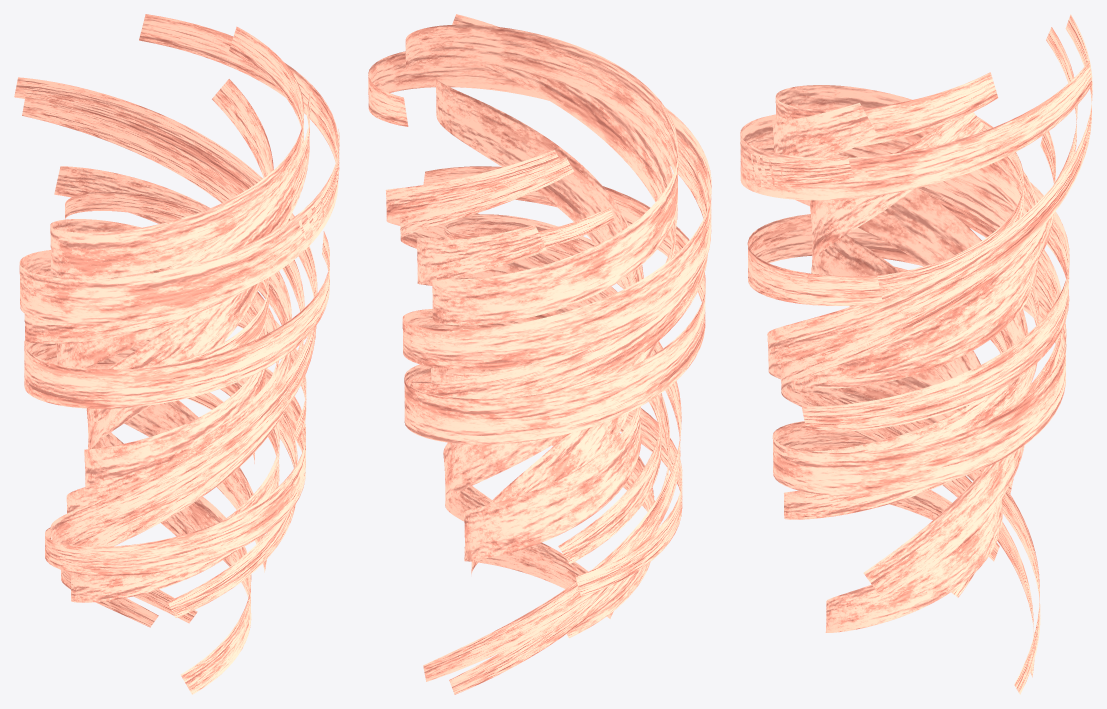
File: clear_devil_wisps_1.glb
3 renders of one model, left to right at view 1: azimuth 30°, elevation 25°; view 2: azimuth 150°, elevation 25°; view 3: azimuth 270°, elevation 25°, orthographic. The views are drawn at different scales.
Parts seen in each view (by area): view 1: devil_wisps_1; view 2: devil_wisps_1; view 3: devil_wisps_1.
Boxes of the visible parts, box(x1,y1,x2,y2) form: devil_wisps_1: box(14, 14, 339, 694); devil_wisps_1: box(368, 14, 711, 694); devil_wisps_1: box(740, 14, 1092, 694).
Size of the model in its own units: 9.31 by 18.95 by 9.45.
Materials: 1 (1 with a texture image).
